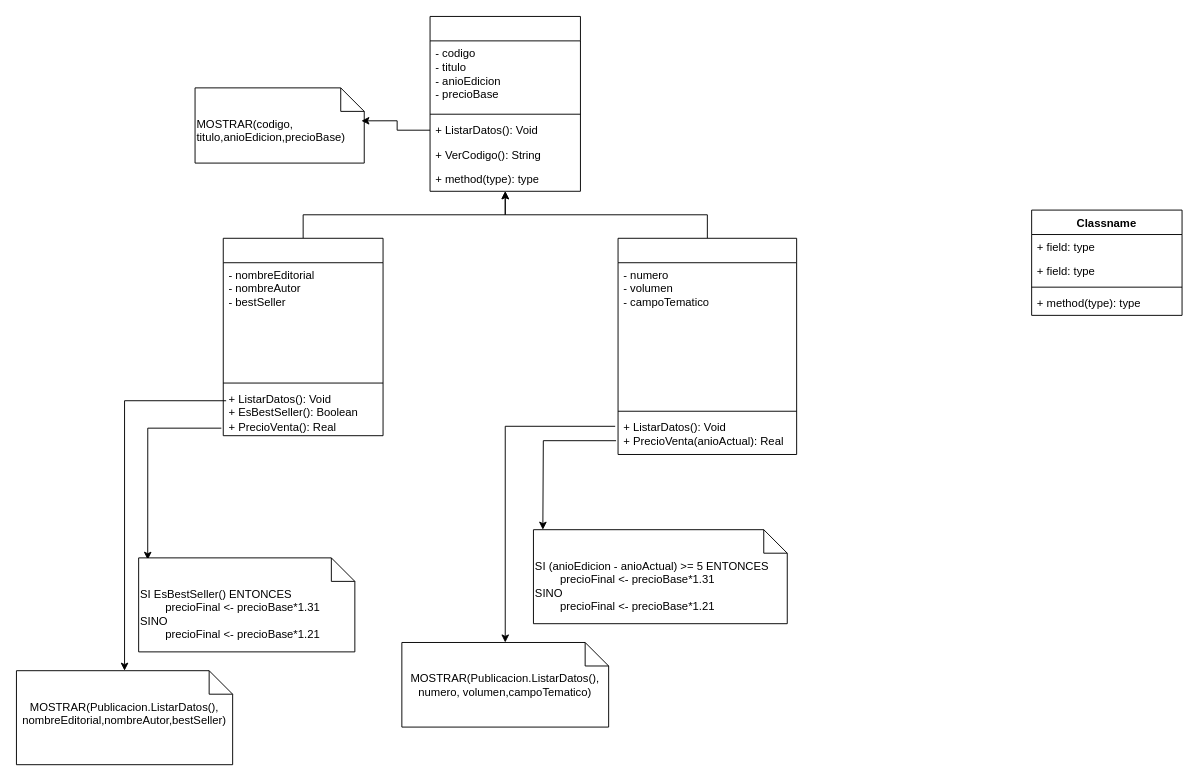
The diagram is 1199 pixels wide and 781 high, and some of its shapes have lost their labels. Here are the shapes that lost their labels. From the top down, the box of each, then its label:
(429, 16, 580, 191): (Abstract) Publicacion
(222, 237, 383, 436): Libro
(617, 237, 797, 454): Revista
